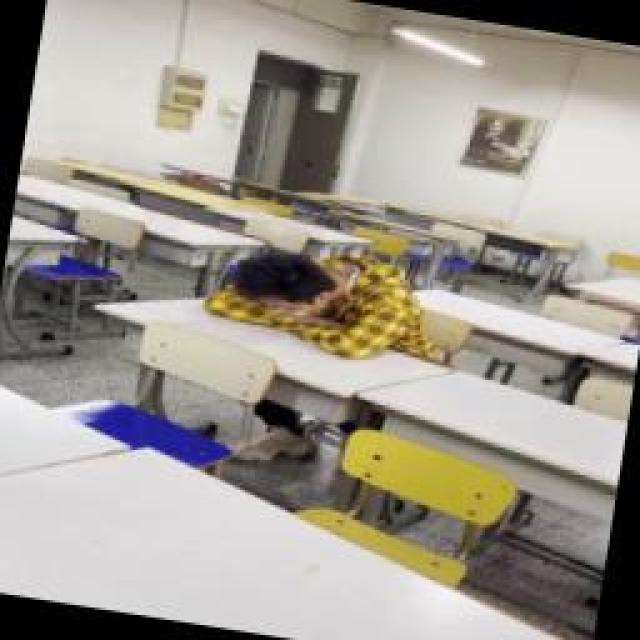sleep: (195, 232, 443, 370)
